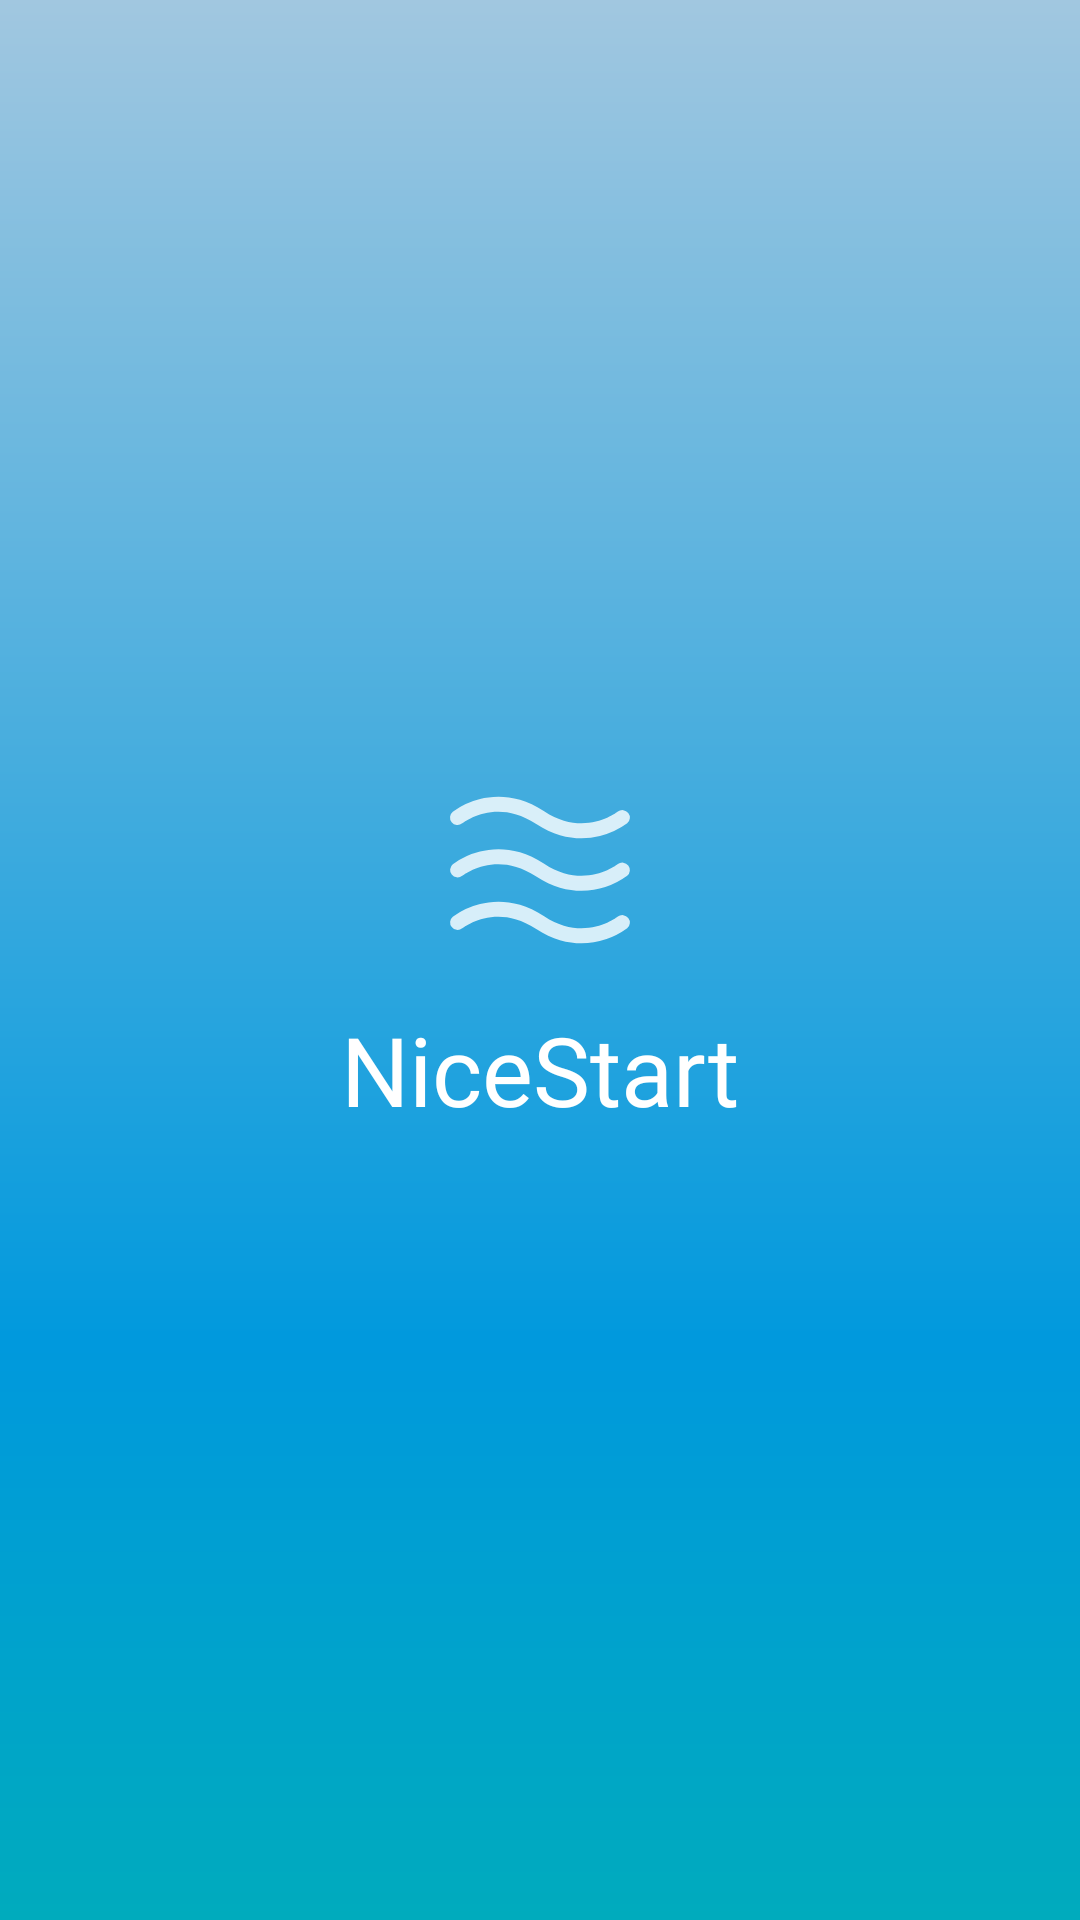

Icons on this 1080×1920 Android screen, each with its box as (x1, y1, x2, y2):
wave: (420, 750, 660, 944)
